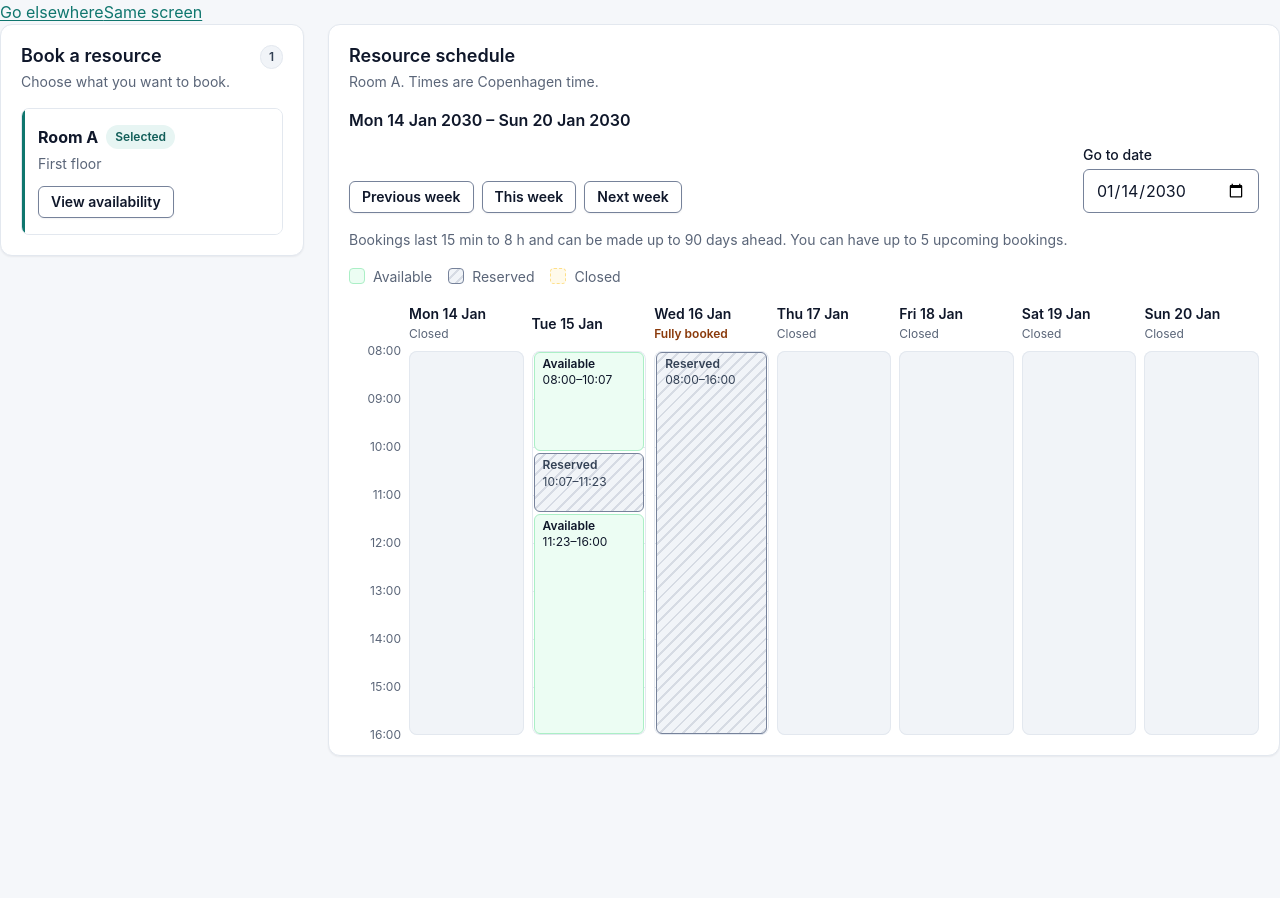
Test: BookingPage closures and freshness › refreshing › reloads every minute while the page is visible, keeping the week and the time being chosen
Click the button with aria-label "Available Tue 15 Jan 2030, 08:00–10:07. Choose a time".
click(589, 401)  # box [534,352,644,451]
Wait 60000 ms
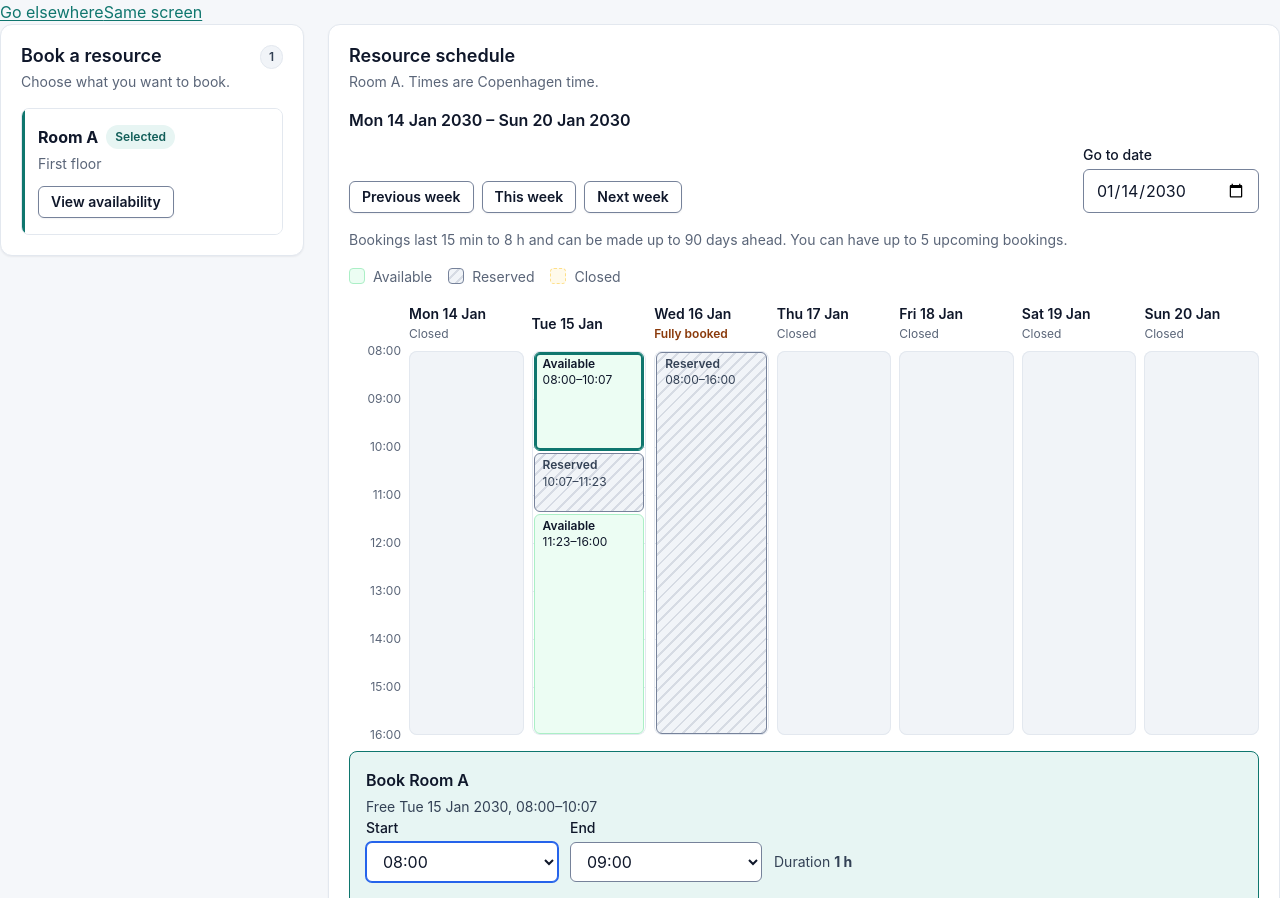
Now the dropdown labelled "Start" is shown, box [366,842,558,882]
